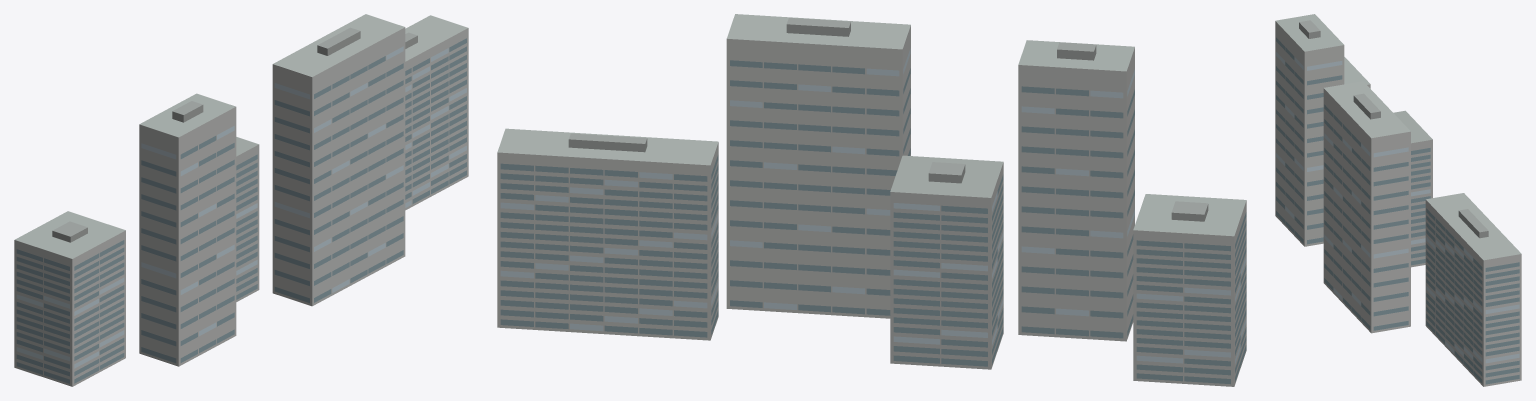
Rendered from apt-a13527007.glb.
The picture shows the model from 3 angles, left to right: view 1: azimuth 30°, elevation 25°; view 2: azimuth 150°, elevation 25°; view 3: azimuth 270°, elevation 25°; orthographic projection. The views are drawn at different scales.
Visible parts, largest first — view 1: apt-a13527007; view 2: apt-a13527007; view 3: apt-a13527007.
Part boxes in pixels (<box>): apt-a13527007: <box>14,14,468,386</box>; apt-a13527007: <box>497,14,1246,386</box>; apt-a13527007: <box>1275,14,1521,386</box>.
Bounding box in the file's own units: 180 × 76 × 84.31.
